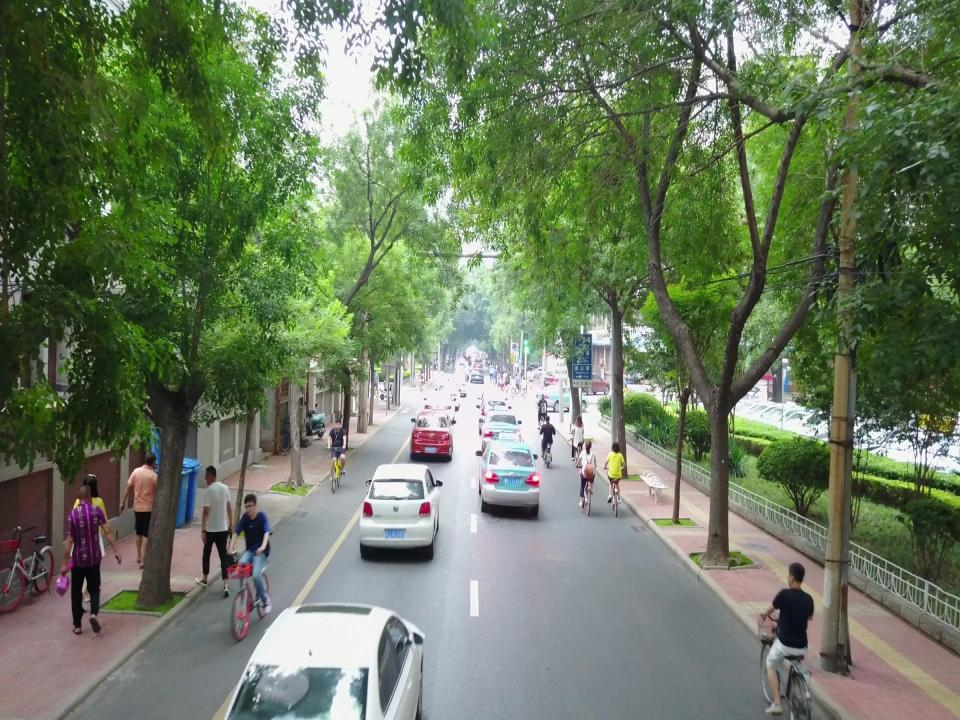car: (224, 594, 425, 720), (360, 462, 442, 559), (475, 432, 539, 517), (409, 409, 456, 463), (479, 406, 523, 446), (537, 383, 589, 413), (422, 393, 456, 423), (478, 398, 512, 427), (574, 372, 612, 397), (477, 390, 509, 415), (434, 385, 460, 411), (550, 369, 584, 388), (544, 369, 571, 388), (446, 376, 468, 397), (539, 368, 563, 383), (524, 362, 546, 376), (452, 364, 468, 383), (527, 368, 549, 380), (469, 368, 485, 384), (473, 363, 481, 374)
van: (455, 357, 469, 382), (472, 357, 482, 371)
